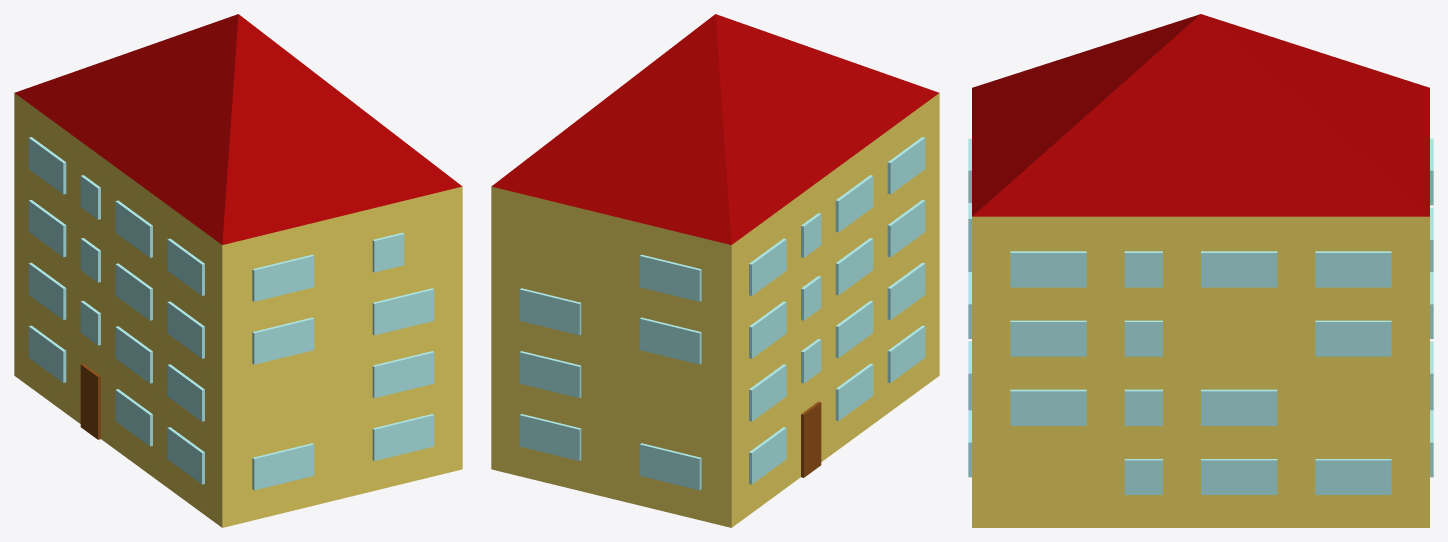
Rendered from house5.fbx.
3 views of the same model, side by side, from view 1: azimuth 30°, elevation 25°; view 2: azimuth 150°, elevation 25°; view 3: azimuth 270°, elevation 25° (orthographic). The views are drawn at different scales.
Parts seen in each view (by area): view 1: House5; view 2: House5; view 3: House5.
Part boxes in pixels (x1,y1,x2,y2): House5: (14,14,462,527); House5: (491,14,939,527); House5: (968,14,1433,527).
Size of the model in its own units: 1230 by 1950 by 1830.
